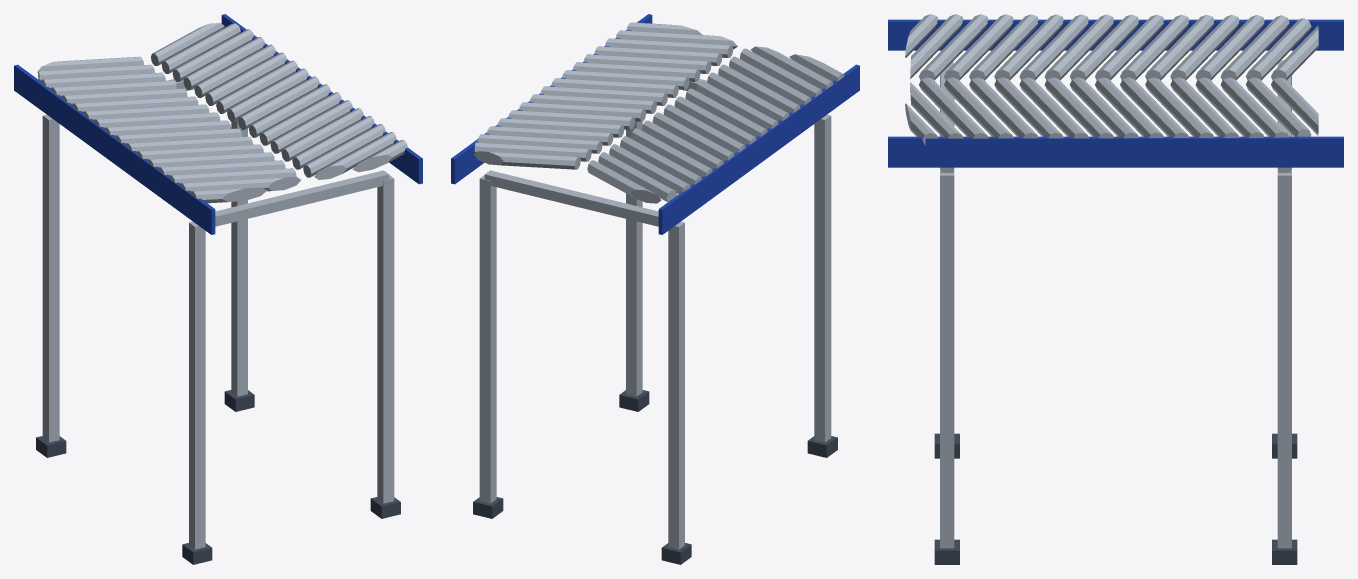
The model's file is SM_MPR_CADFeedChevron_2CB2DE.fbx.
3 views of the same model, side by side, from view 1: azimuth 30°, elevation 25°; view 2: azimuth 150°, elevation 25°; view 3: azimuth 270°, elevation 25° (orthographic). The views are drawn at different scales.
Visible parts, largest first — view 1: SM_MPR_CADFeedChevron_2CB2DE; view 2: SM_MPR_CADFeedChevron_2CB2DE; view 3: SM_MPR_CADFeedChevron_2CB2DE.
Part boxes in pixels (bbox=[...]): SM_MPR_CADFeedChevron_2CB2DE: bbox=[14, 14, 422, 564]; SM_MPR_CADFeedChevron_2CB2DE: bbox=[451, 14, 859, 564]; SM_MPR_CADFeedChevron_2CB2DE: bbox=[888, 14, 1343, 564].
Bounding box in the file's own units: 88.46 × 143 × 150.
